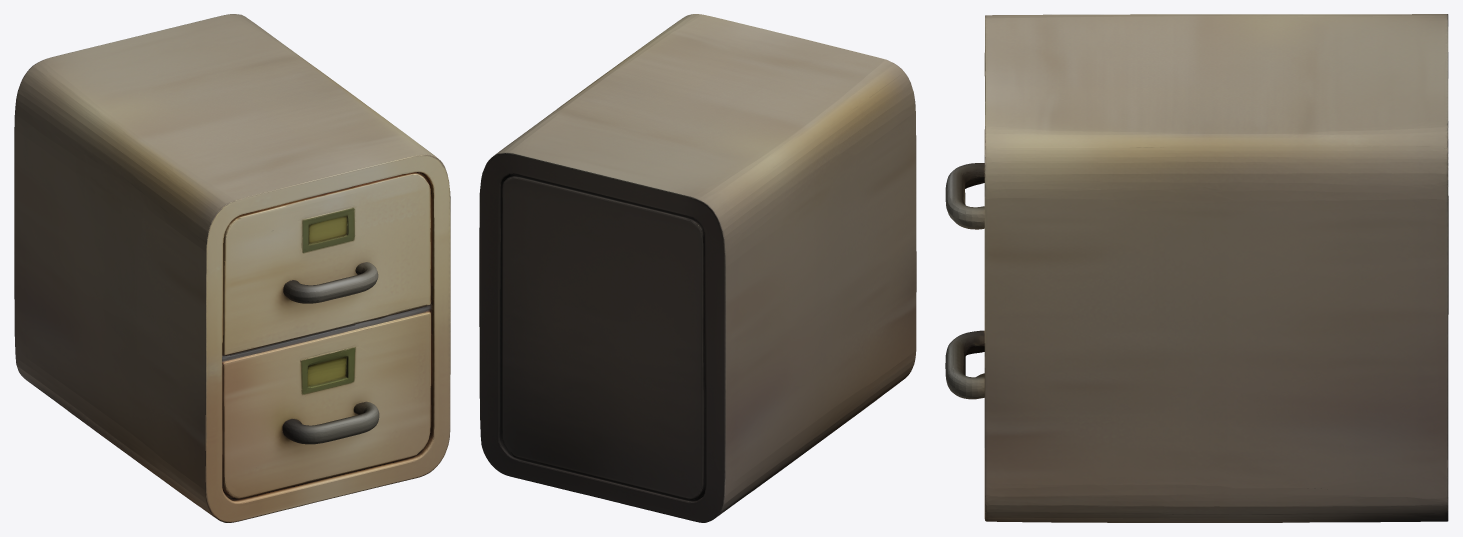
Rendered from filing_cabinet.glb.
3 renders of one model, left to right at view 1: azimuth 30°, elevation 25°; view 2: azimuth 150°, elevation 25°; view 3: azimuth 270°, elevation 25°, orthographic. The views are drawn at different scales.
Visible parts, largest first — view 1: world; view 2: world; view 3: world.
Boxes of the visible parts, x1=… form: world: x1=14, y1=14, x2=450, y2=522; world: x1=479, y1=14, x2=916, y2=522; world: x1=945, y1=14, x2=1448, y2=522.
Size of the model in its own units: 0.6856 by 0.864 by 1.
Materials: 1 (1 with a texture image).
